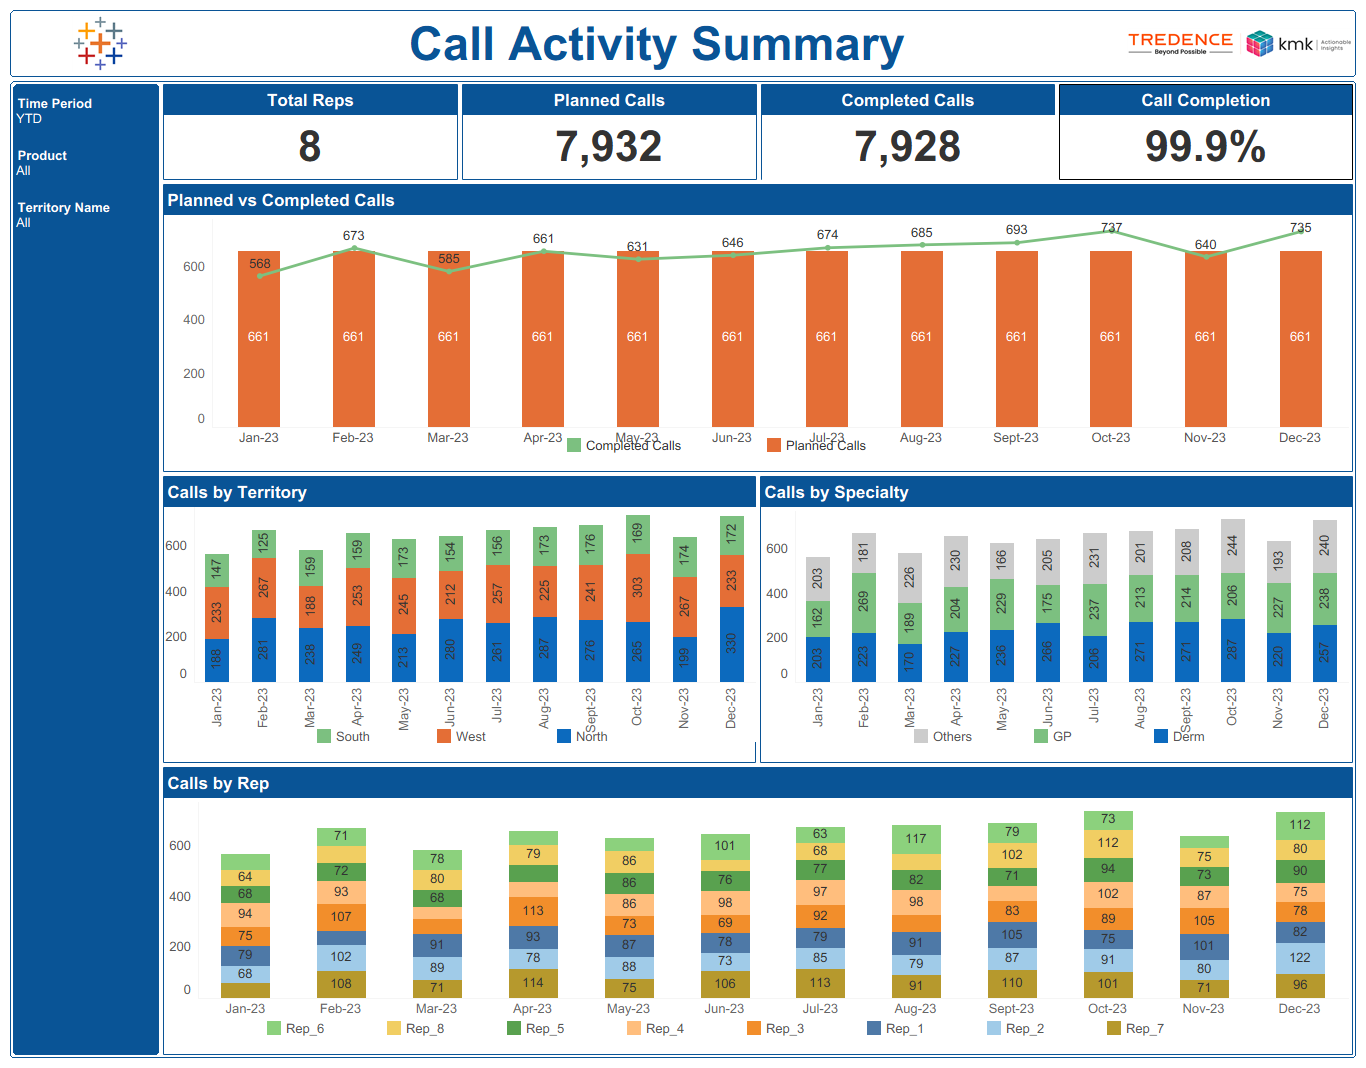

This screenshot's page, from the dashboard's own definition file:
{"tool":"tableau","page":{"name":"Call Activity Summary","canvas":[1366,1068],"ordinal":0},"visuals":[{"type":"image","param":"Image/Tableau.png","box":[11,11,180,65]},{"type":"text","box":[191,11,932,65]},{"type":"image","param":"Image/tredence-logo-kmk.png","box":[1123,11,232,65]},{"type":"parameter","param":"[Parameters].[Parameter 1025046070018058]","box":[14,85,144,52]},{"type":"text","box":[164,85,293,30]},{"type":"text","box":[463,85,293,30]},{"type":"text","box":[762,85,292,30]},{"type":"text","box":[1060,85,292,30]},{"type":"worksheet","title":"KPI- Total Reps","mark":"Text","box":[164,115,293,64]},{"type":"worksheet","title":"KPI- Planned Calls","mark":"Text","box":[463,115,293,64]},{"type":"worksheet","title":"KPI- Completed Calls","mark":"Text","box":[762,115,292,64]},{"type":"worksheet","title":"KPI- Call Completion","mark":"Text","box":[1060,115,292,64]},{"type":"filter","title":"KPI- Call Completion","param":"[federated.0lpo7461ihcmnp0zxqhoc1q06l74].[none:PRODUCT:nk]","box":[14,137,144,52]},{"type":"text","box":[164,185,1188,30]},{"type":"filter","title":"KPI- Call Completion","param":"[federated.0lpo7461ihcmnp0zxqhoc1q06l74].[none:TERRITORY_NAME:nk]","box":[14,189,144,52]},{"type":"worksheet","title":"total calls trend","mark":"Bar","rows":["CALLS_PLANNED_PER_MONTH","COMPLETED_CALLS"],"cols":["FINAL_MONTH_PATIENTS"],"box":[164,215,1188,235.7]},{"type":"legend","title":"total calls trend","param":"[federated.0lpo7461ihcmnp0zxqhoc1q06l74].[:Measure Names]","box":[164,450.7,1188,20]},{"type":"text","box":[164,477,591,30]},{"type":"text","box":[761,477,591,30]},{"type":"worksheet","title":"Calls by territory","mark":"Bar","rows":["COMPLETED_CALLS"],"cols":["FINAL_CALLS_MONTH"],"box":[164,507,591,235]},{"type":"worksheet","title":"Calls by Specialty","mark":"Bar","rows":["COMPLETED_CALLS"],"cols":["FINAL_CALLS_MONTH"],"box":[761,507,591,235]},{"type":"legend","title":"Calls by territory","param":"[federated.0lpo7461ihcmnp0zxqhoc1q06l74].[none:TERRITORY_NAME (CALLS):nk]","box":[164,742,591,20]},{"type":"legend","title":"Calls by Specialty","param":"[federated.0lpo7461ihcmnp0zxqhoc1q06l74].[none:HCP_SPECIALTY:nk]","box":[761,742,591,20]},{"type":"text","box":[164,768.3,1188,30]},{"type":"worksheet","title":"Calls by Rep","mark":"Bar","rows":["COMPLETED_CALLS"],"cols":["FINAL_CALLS_MONTH"],"box":[164,798.3,1188,235.7]},{"type":"legend","title":"Calls by Rep","param":"[federated.0lpo7461ihcmnp0zxqhoc1q06l74].[none:REP_ID:nk]","box":[164,1034,1188,20]}]}

Visuals, with their boxes in screenshot pixels (x1, y1, x2, y2), scaled from the page's 1366x1068 canvas onto the 1366x1068 screenshot:
image: <bbox>11, 11, 191, 76</bbox>
text: <bbox>191, 11, 1123, 76</bbox>
image: <bbox>1123, 11, 1355, 76</bbox>
parameter: <bbox>14, 85, 158, 137</bbox>
text: <bbox>164, 85, 457, 115</bbox>
text: <bbox>463, 85, 756, 115</bbox>
text: <bbox>762, 85, 1054, 115</bbox>
text: <bbox>1060, 85, 1352, 115</bbox>
"KPI- Total Reps" worksheet (Text marks): <bbox>164, 115, 457, 179</bbox>
"KPI- Planned Calls" worksheet (Text marks): <bbox>463, 115, 756, 179</bbox>
"KPI- Completed Calls" worksheet (Text marks): <bbox>762, 115, 1054, 179</bbox>
"KPI- Call Completion" worksheet (Text marks): <bbox>1060, 115, 1352, 179</bbox>
"KPI- Call Completion" filter: <bbox>14, 137, 158, 189</bbox>
text: <bbox>164, 185, 1352, 215</bbox>
"KPI- Call Completion" filter: <bbox>14, 189, 158, 241</bbox>
"total calls trend" worksheet (Bar marks): <bbox>164, 215, 1352, 451</bbox>
"total calls trend" legend: <bbox>164, 451, 1352, 471</bbox>
text: <bbox>164, 477, 755, 507</bbox>
text: <bbox>761, 477, 1352, 507</bbox>
"Calls by territory" worksheet (Bar marks): <bbox>164, 507, 755, 742</bbox>
"Calls by Specialty" worksheet (Bar marks): <bbox>761, 507, 1352, 742</bbox>
"Calls by territory" legend: <bbox>164, 742, 755, 762</bbox>
"Calls by Specialty" legend: <bbox>761, 742, 1352, 762</bbox>
text: <bbox>164, 768, 1352, 798</bbox>
"Calls by Rep" worksheet (Bar marks): <bbox>164, 798, 1352, 1034</bbox>
"Calls by Rep" legend: <bbox>164, 1034, 1352, 1054</bbox>
